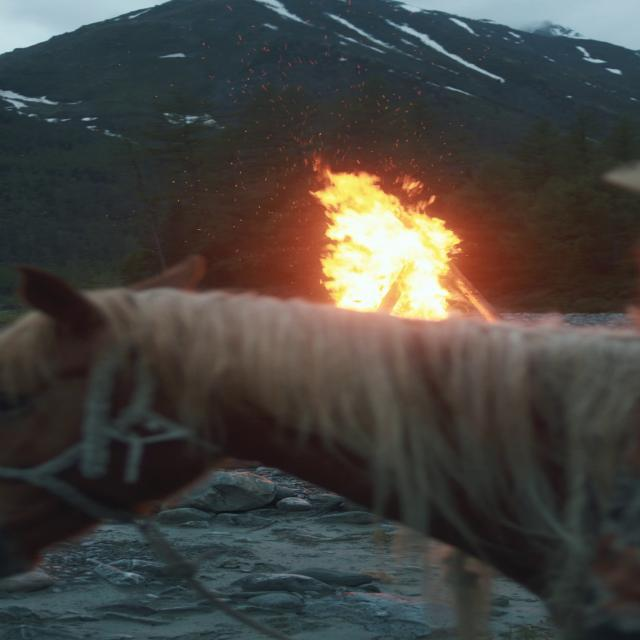Fire: (292, 165, 486, 324)
